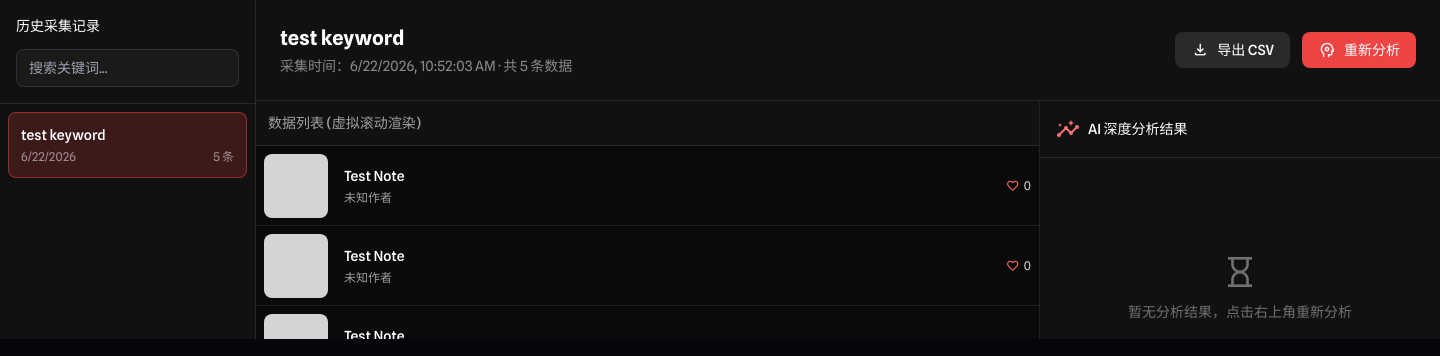
HistoryView Component › filters history list by search query
This screenshot has width=1440, height=356.
Expected: the text "test keyword" is shown, left=21, top=127, right=106, bottom=143
In the field with placeholder "搜索关键词...": (128, 68) left=16, top=49, right=239, bottom=87, type "nonexistent"
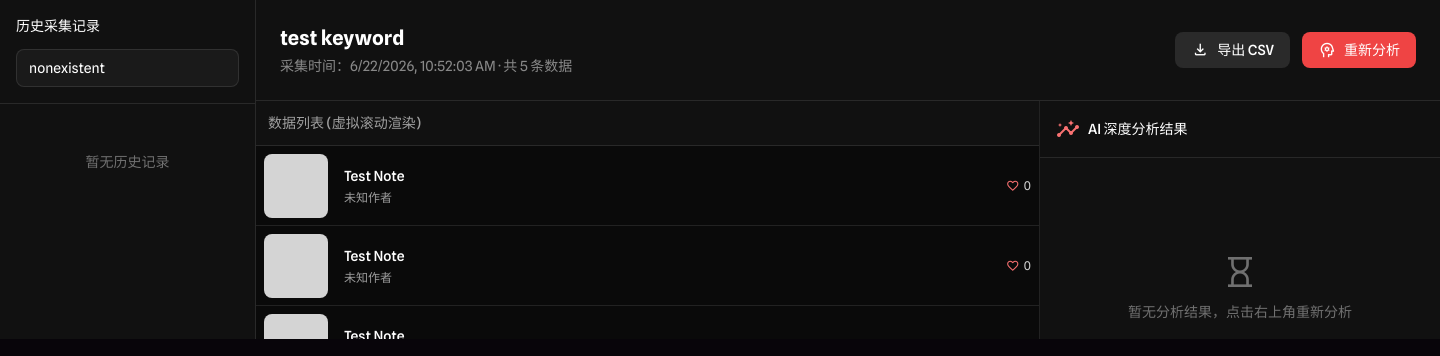
Expected: the number of headings "test keyword" is 1, left=280, top=26, right=404, bottom=50
Expected: the text "暂无历史记录" is shown, left=86, top=154, right=170, bottom=170
